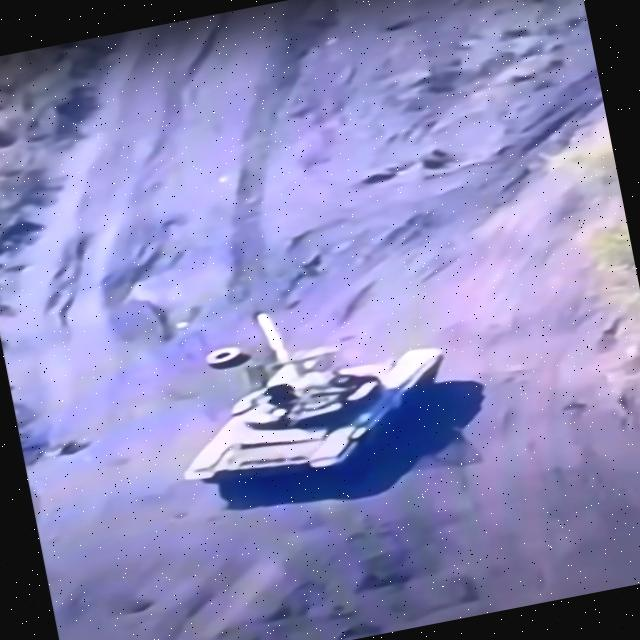MBT: (149, 279, 471, 533)
